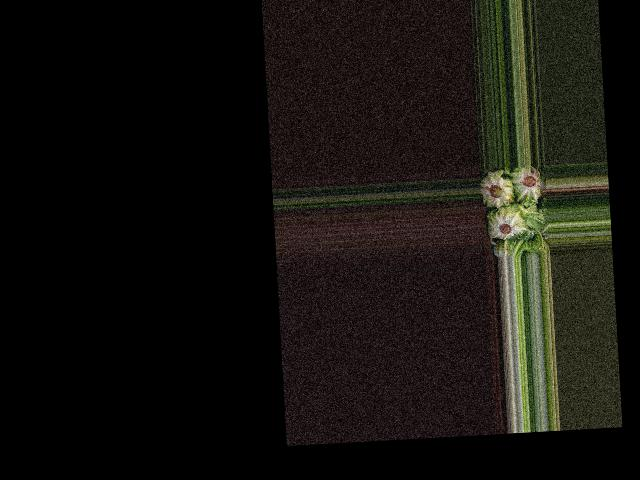lettuce: (510, 165, 542, 202)
